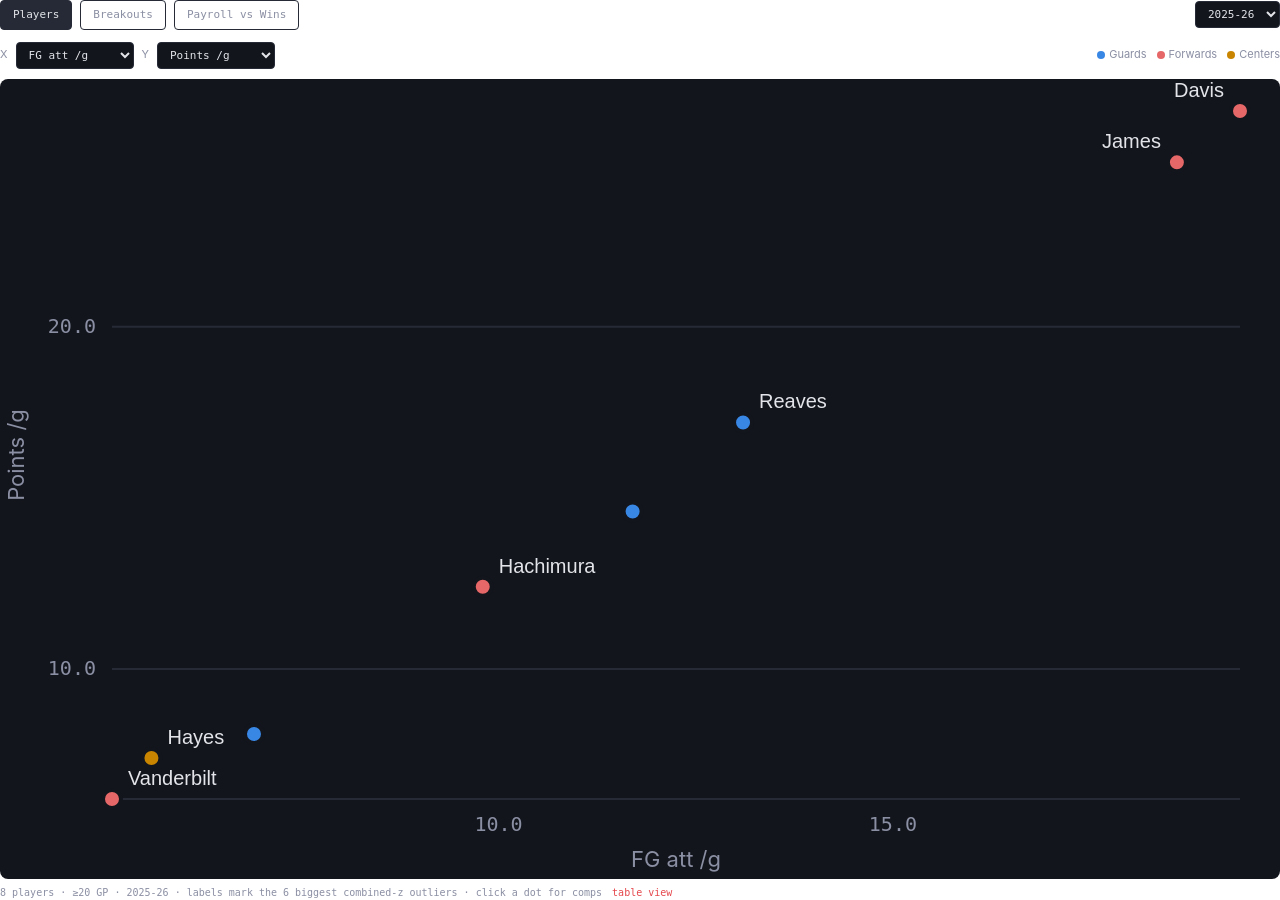
LeagueLens — payroll vs wins › declines to plot when fewer than two teams have payroll data
The image size is (1280, 900).
Click the button "Payroll vs Wins" at (237, 15), box [174,0,299,30]
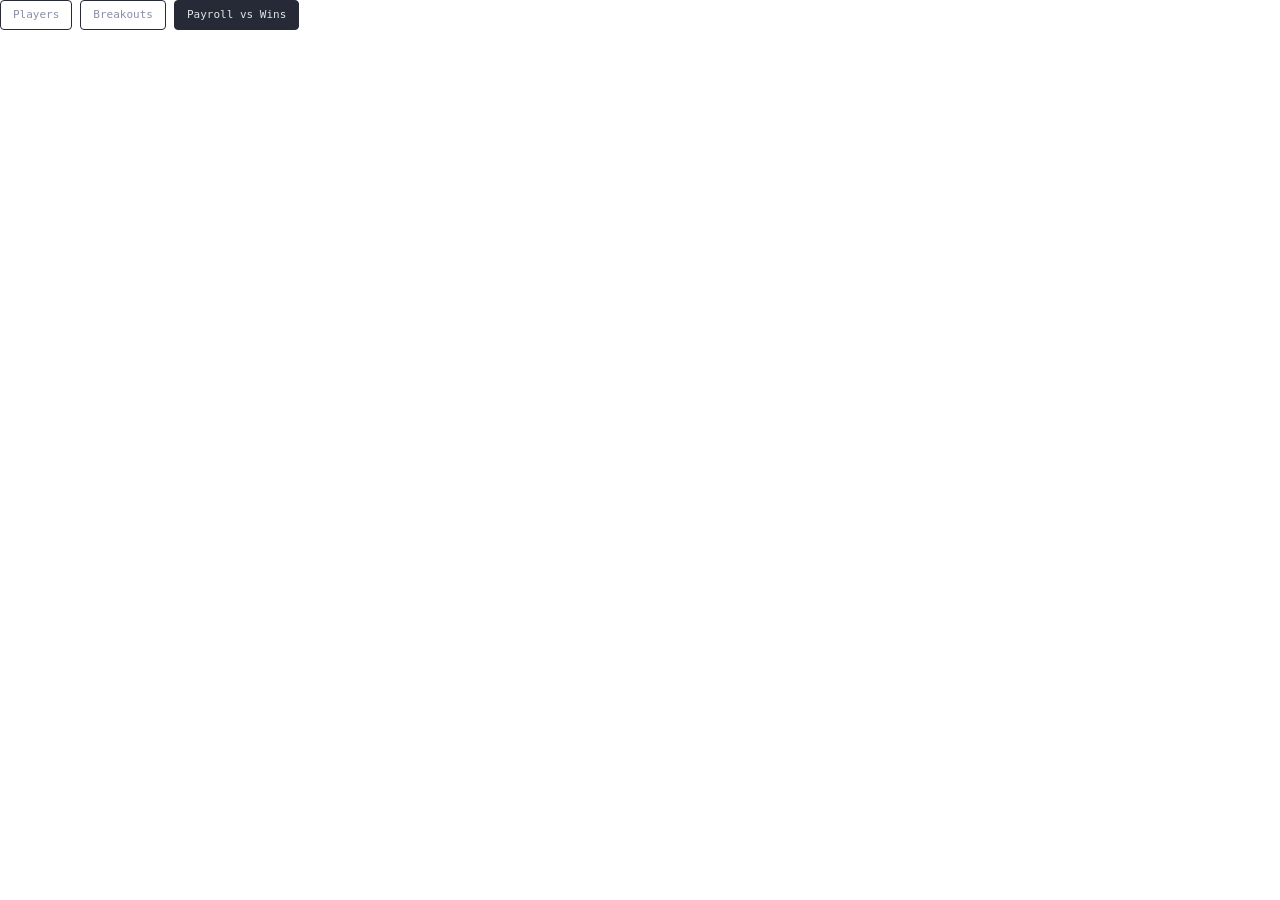
Result: the picture is gone
